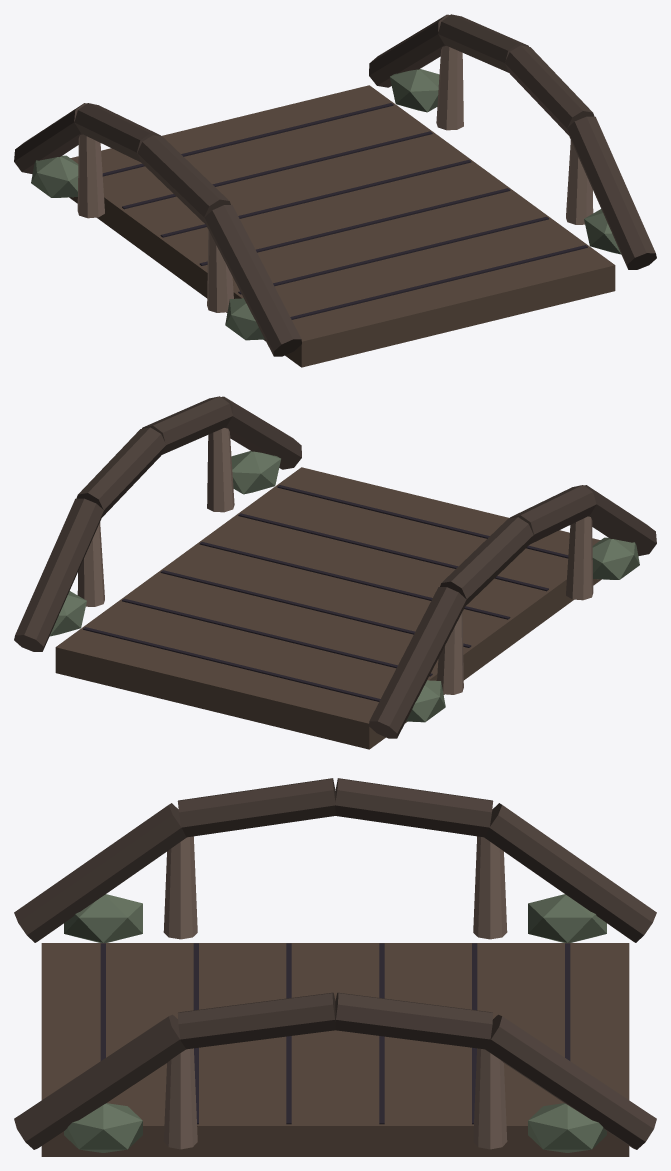
Rendered from HauntedWoods_RootBridge_Showcase.glb.
3 renders of one model, top to bottom at view 1: azimuth 30°, elevation 25°; view 2: azimuth 150°, elevation 25°; view 3: azimuth 270°, elevation 25°, orthographic. The views are drawn at different scales.
Parts seen in each view (by area): view 1: HauntedWoods_RootBridge_Showcase; view 2: HauntedWoods_RootBridge_Showcase; view 3: HauntedWoods_RootBridge_Showcase.
Part boxes in pixels (x1=…): HauntedWoods_RootBridge_Showcase: x1=14, y1=14, x2=656, y2=367; HauntedWoods_RootBridge_Showcase: x1=14, y1=396, x2=656, y2=749; HauntedWoods_RootBridge_Showcase: x1=14, y1=778, x2=656, y2=1156.
Bounding box in the file's own units: 3.59 × 1.28 × 4.16.
